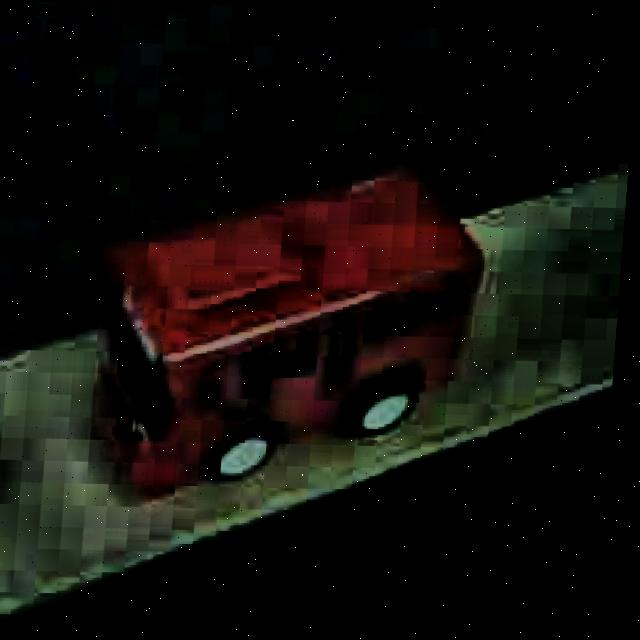bus: (78, 152, 492, 509)
